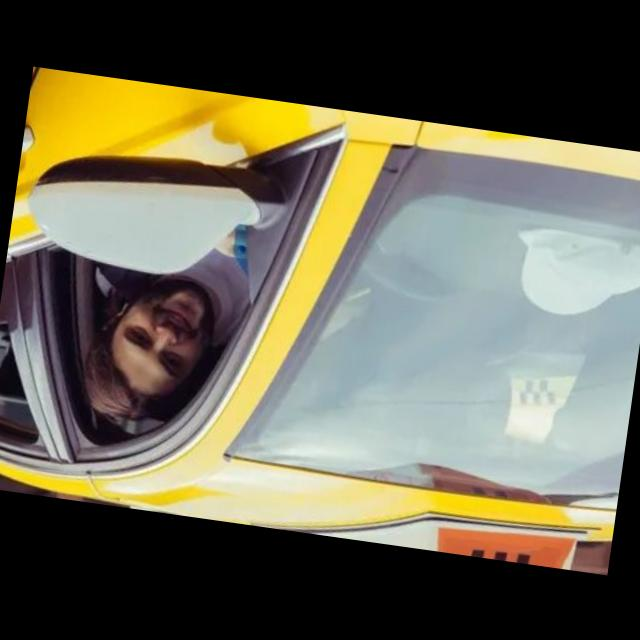taxi: (1, 66, 640, 575)
